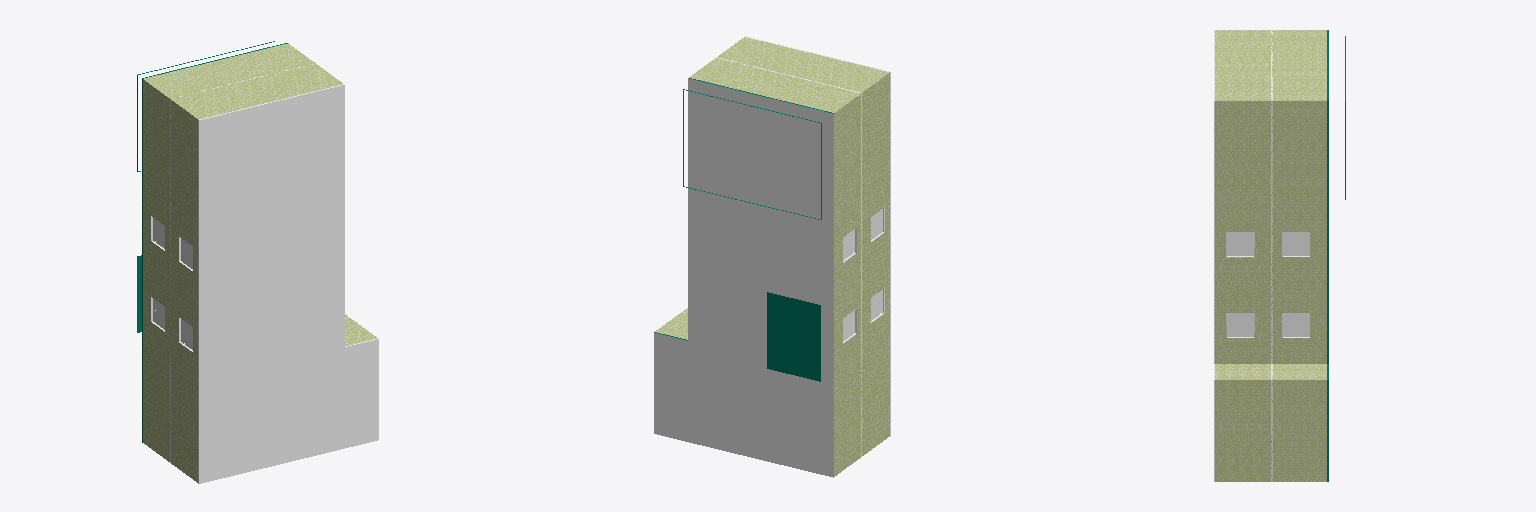
3 renders of one model, left to right at view 1: azimuth 30°, elevation 25°; view 2: azimuth 150°, elevation 25°; view 3: azimuth 270°, elevation 25°, orthographic.
Visible parts, largest first — view 1: Floor_Floor3, Wall_Floor2, Wall_Floo1; view 2: Floor_Floor1, Wall_Floo1, Wall_Floor2, Room201_FL; view 3: Wall_Floor2, Wall_Floo1, Floor_Floor1, Floor_Floor2.
Part boxes in pixels (x1,y1,x2,y2): Floor_Floor3: (198, 84, 378, 483); Wall_Floor2: (171, 64, 376, 482); Wall_Floo1: (143, 43, 347, 461); Floor_Floor1: (654, 78, 833, 477); Wall_Floo1: (655, 58, 861, 476); Wall_Floor2: (683, 37, 889, 455); Room201_FL: (767, 292, 820, 381); Wall_Floor2: (1215, 30, 1270, 481); Wall_Floo1: (1271, 30, 1326, 481); Floor_Floor1: (1327, 30, 1328, 481); Floor_Floor2: (1271, 30, 1272, 481).
Size of the model in its own units: 11.18 by 21.62 by 7.15.
Materials: 43 (17 with a texture image).